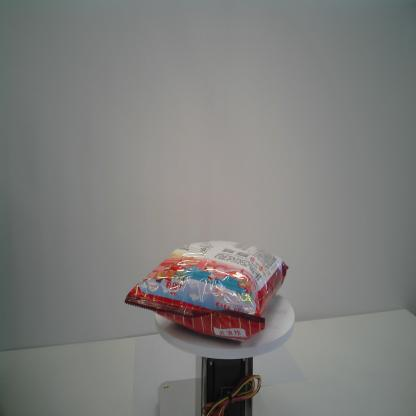Puffed Food: (125, 239, 289, 343)
